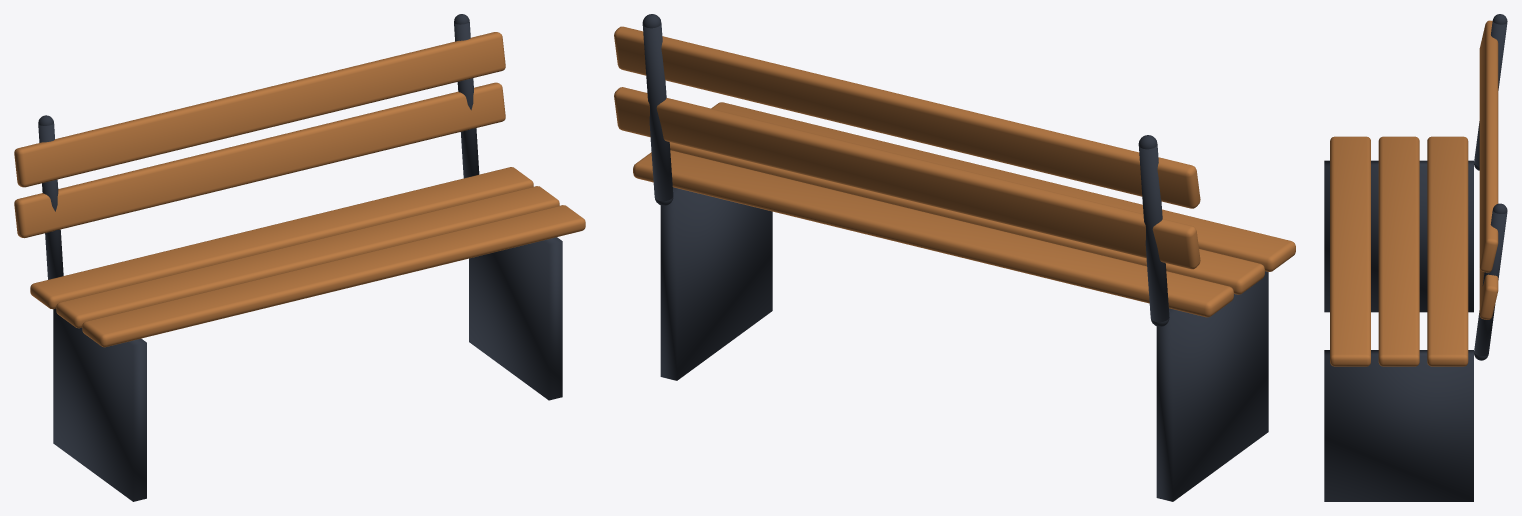
Rendered from prop_bench.fbx.
3 renders of one model, left to right at view 1: azimuth 30°, elevation 25°; view 2: azimuth 150°, elevation 25°; view 3: azimuth 270°, elevation 25°, orthographic. The views are drawn at different scales.
Parts seen in each view (by area): view 1: prop_bench; view 2: prop_bench; view 3: prop_bench.
Boxes of the visible parts, box(x1,y1,x2,y2) form: prop_bench: box(14, 14, 585, 501); prop_bench: box(614, 14, 1295, 501); prop_bench: box(1324, 14, 1507, 501).
Bounding box in the file's own units: 1.4 × 0.87 × 0.49.
